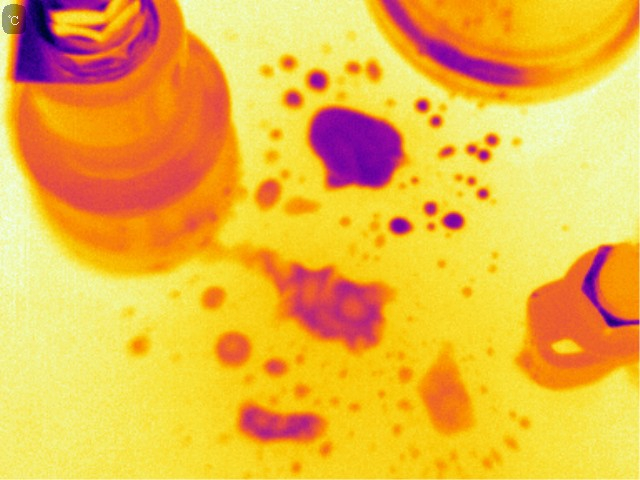Water: (259, 249, 391, 355), (307, 104, 404, 195), (417, 349, 477, 435), (235, 400, 327, 445), (215, 331, 252, 368), (254, 176, 287, 211), (467, 131, 501, 161), (281, 195, 323, 219), (198, 284, 231, 311), (464, 173, 493, 202), (123, 336, 152, 357), (386, 216, 413, 237), (262, 357, 289, 378), (253, 56, 274, 83), (349, 62, 379, 80), (306, 68, 325, 91), (392, 364, 413, 384), (279, 53, 298, 75), (443, 211, 464, 229), (292, 382, 311, 400), (285, 89, 301, 110), (261, 151, 285, 165), (521, 414, 537, 431), (341, 214, 356, 231), (389, 422, 404, 438), (461, 284, 475, 299), (424, 199, 435, 215), (270, 128, 285, 139), (417, 97, 429, 110)
